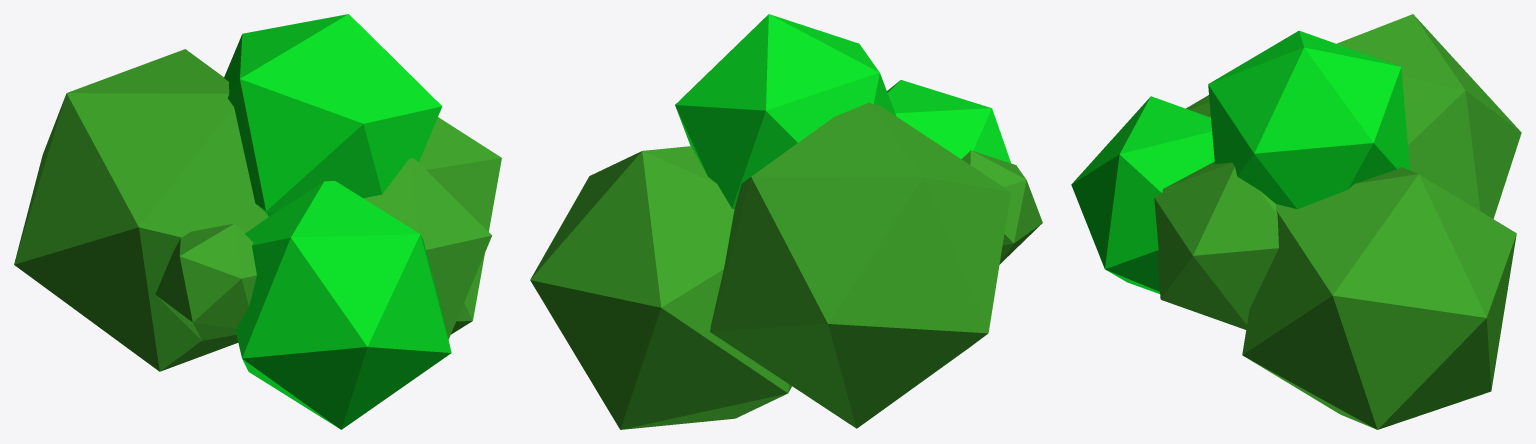
The picture shows the model from 3 angles, left to right: view 1: azimuth 30°, elevation 25°; view 2: azimuth 150°, elevation 25°; view 3: azimuth 270°, elevation 25°; orthographic projection. The views are drawn at different scales.
Parts seen in each view (by area): view 1: Icosphere, Icosphere.002, Icosphere.004, Icosphere.001, Icosphere.003, Icosphere.005; view 2: Icosphere, Icosphere.005, Icosphere.004, Icosphere.002, Icosphere.001; view 3: Icosphere.005, Icosphere.004, Icosphere, Icosphere.003, Icosphere.002.
Boxes of the visible parts, box(x1,y1,x2,y2) form: Icosphere: box(14, 49, 268, 371); Icosphere.002: box(235, 181, 451, 429); Icosphere.004: box(224, 14, 442, 216); Icosphere.001: box(155, 223, 256, 340); Icosphere.003: box(363, 158, 491, 339); Icosphere.005: box(419, 117, 501, 334); Icosphere: box(710, 102, 1010, 428); Icosphere.005: box(530, 146, 791, 429); Icosphere.004: box(675, 14, 896, 208); Icosphere.002: box(887, 80, 1010, 163); Icosphere.001: box(961, 150, 1042, 264); Icosphere.005: box(1242, 167, 1516, 429); Icosphere.004: box(1208, 30, 1409, 209); Icosphere: box(1336, 14, 1521, 218); Icosphere.003: box(1154, 161, 1278, 329); Icosphere.002: box(1071, 96, 1214, 293).
Bounding box in the file's own units: 569 × 491 × 555.
